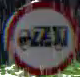Heavy Vehicles: (3, 0, 79, 75)
